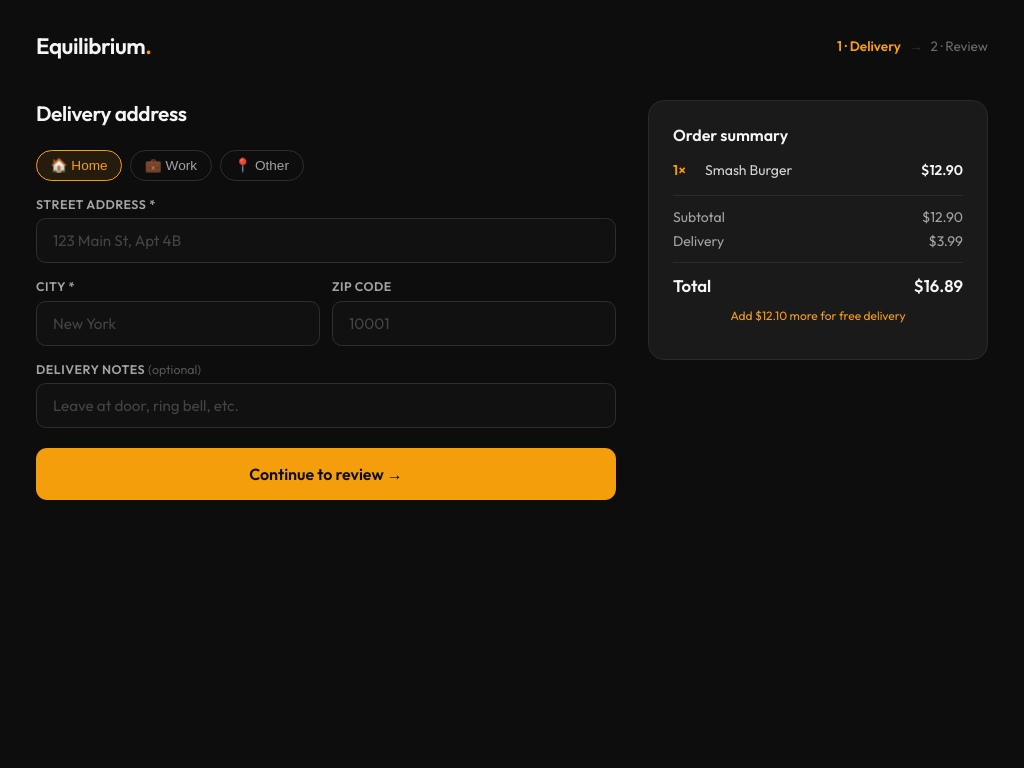
it: Checkout validation › shows validation error when city is empty
In the field labelled "Street address *": [326, 241] box [36,218,616,263], type "123 Main St"
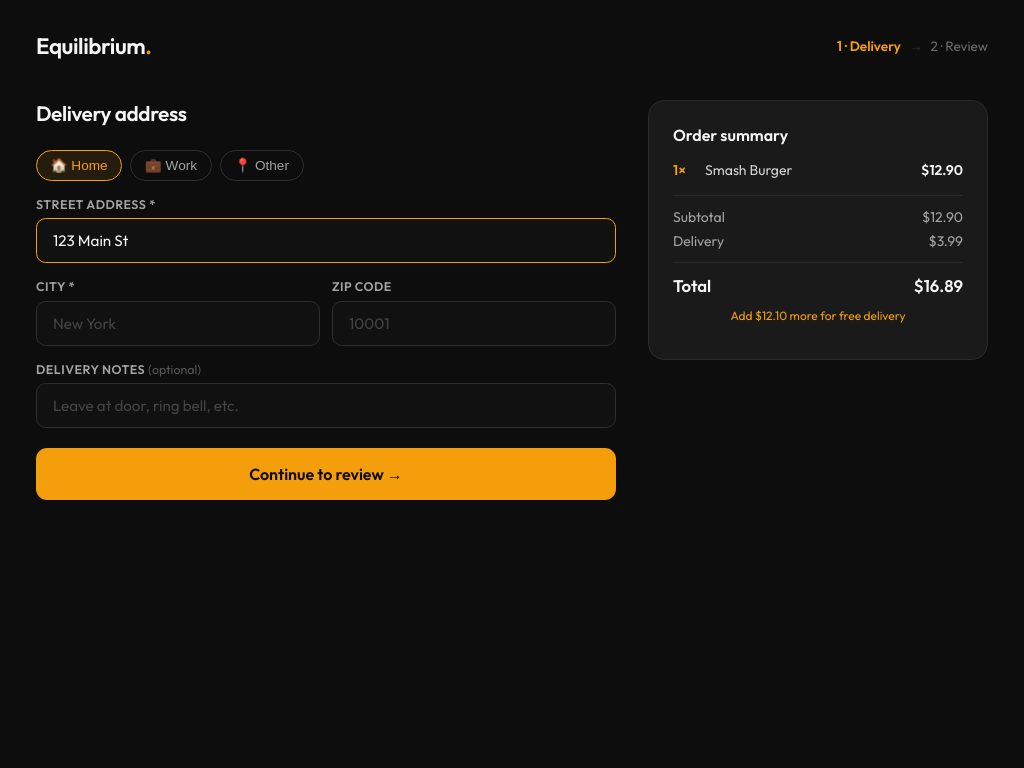
Click the button "Continue to review →": [326, 474] box [36,448,616,500]
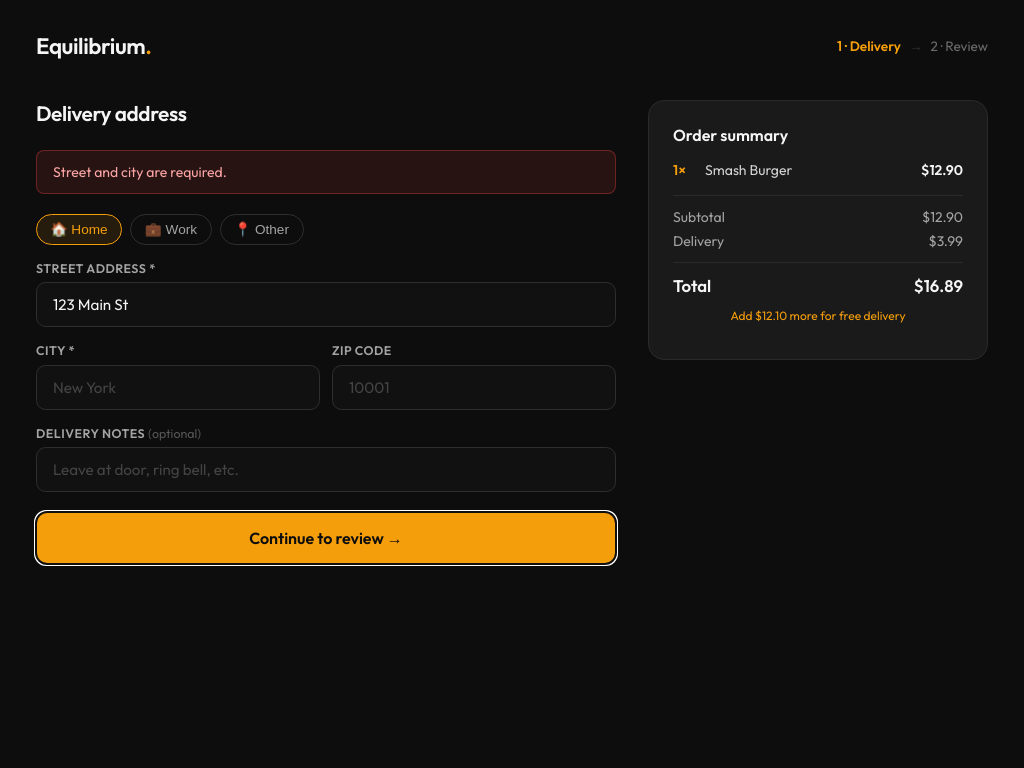
Result: the text "Street and city are required." is shown at [36,150,616,194]
